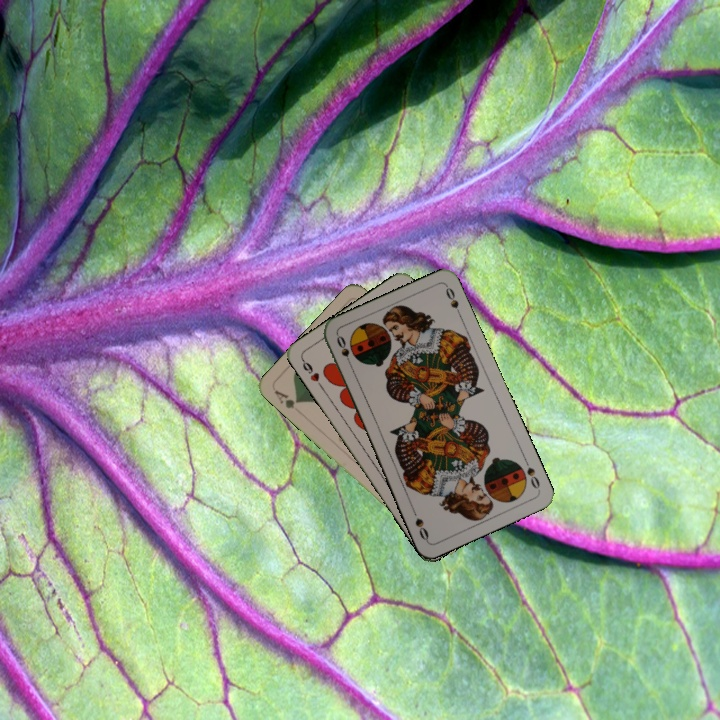GA: (270, 386, 302, 412)
H9: (298, 355, 325, 391)
SO: (520, 454, 543, 493), (333, 331, 355, 370)
